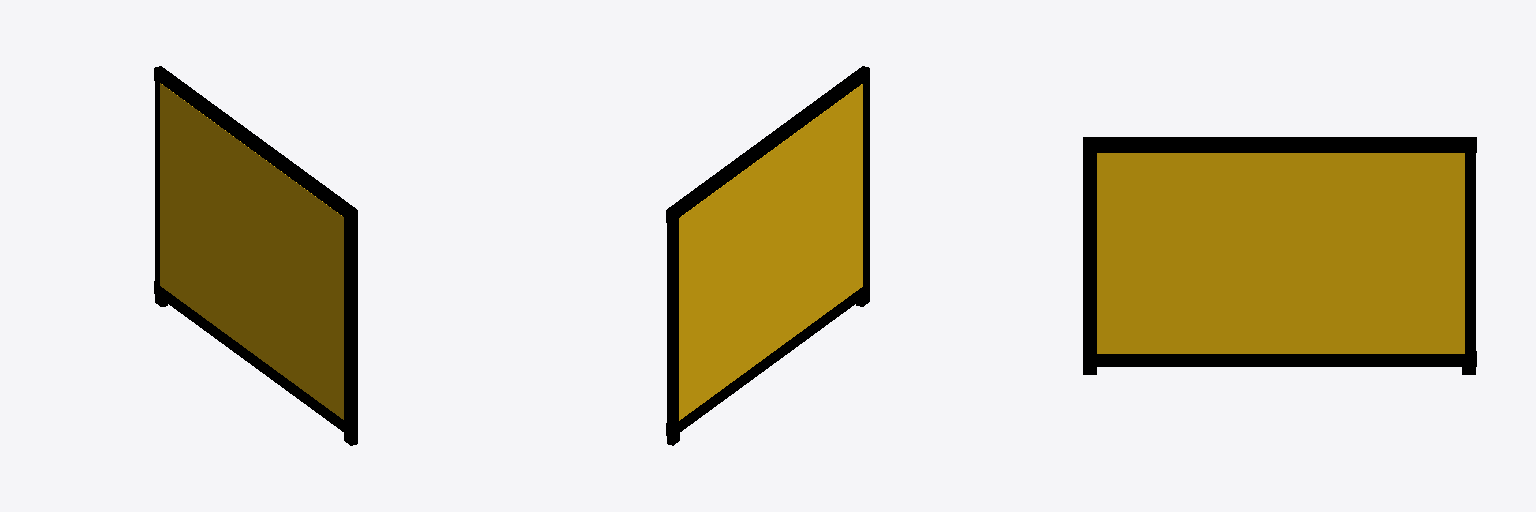
3 views of the same model, side by side, from view 1: azimuth 30°, elevation 25°; view 2: azimuth 150°, elevation 25°; view 3: azimuth 270°, elevation 25° (orthographic).
Visible parts, largest first — view 1: fence:pCube2, fence:pasted__pCube1, fence:pasted__pCube2, fence:pasted__pasted__pCube1, fence:pCube1; view 2: fence:pCube2, fence:pasted__pCube1, fence:pCube1, fence:pasted__pasted__pCube1, fence:pasted__pCube2; view 3: fence:pCube2, fence:pasted__pCube1, fence:pasted__pasted__pCube1, fence:pasted__pCube2, fence:pCube1.
Boxes of the visible parts, x1=… form: fence:pCube2: x1=160, y1=83, x2=343, y2=419; fence:pasted__pCube1: x1=154, y1=66, x2=356, y2=216; fence:pasted__pCube2: x1=344, y1=207, x2=357, y2=445; fence:pasted__pasted__pCube1: x1=154, y1=281, x2=343, y2=431; fence:pCube1: x1=155, y1=69, x2=167, y2=306; fence:pCube2: x1=679, y1=84, x2=862, y2=420; fence:pasted__pCube1: x1=666, y1=66, x2=868, y2=223; fence:pCube1: x1=667, y1=207, x2=679, y2=445; fence:pasted__pasted__pCube1: x1=666, y1=287, x2=862, y2=437; fence:pasted__pCube2: x1=856, y1=68, x2=869, y2=306; fence:pCube2: x1=1097, y1=153, x2=1464, y2=353; fence:pasted__pCube1: x1=1083, y1=137, x2=1476, y2=152; fence:pasted__pasted__pCube1: x1=1083, y1=351, x2=1476, y2=366; fence:pasted__pCube2: x1=1083, y1=153, x2=1096, y2=374; fence:pCube1: x1=1462, y1=153, x2=1475, y2=374.
Size of the model in its own units: 0.1707 by 5.46 by 8.3.
Materials: 1 (1 with a texture image).